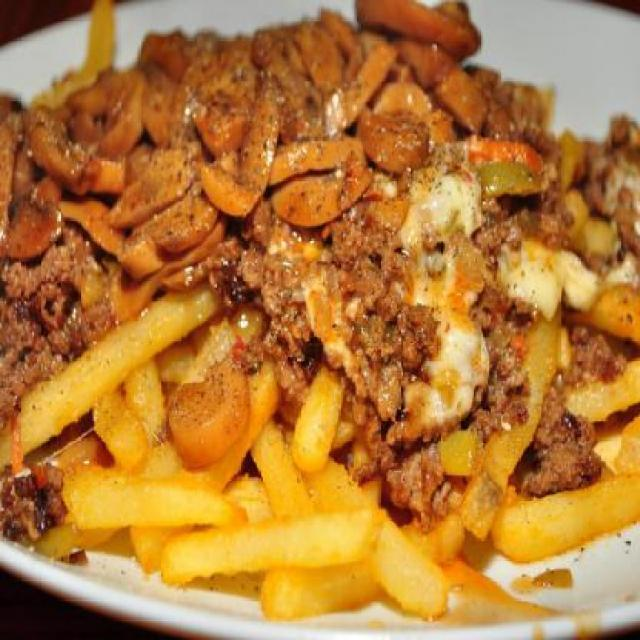French fries: (39, 321, 438, 624)
